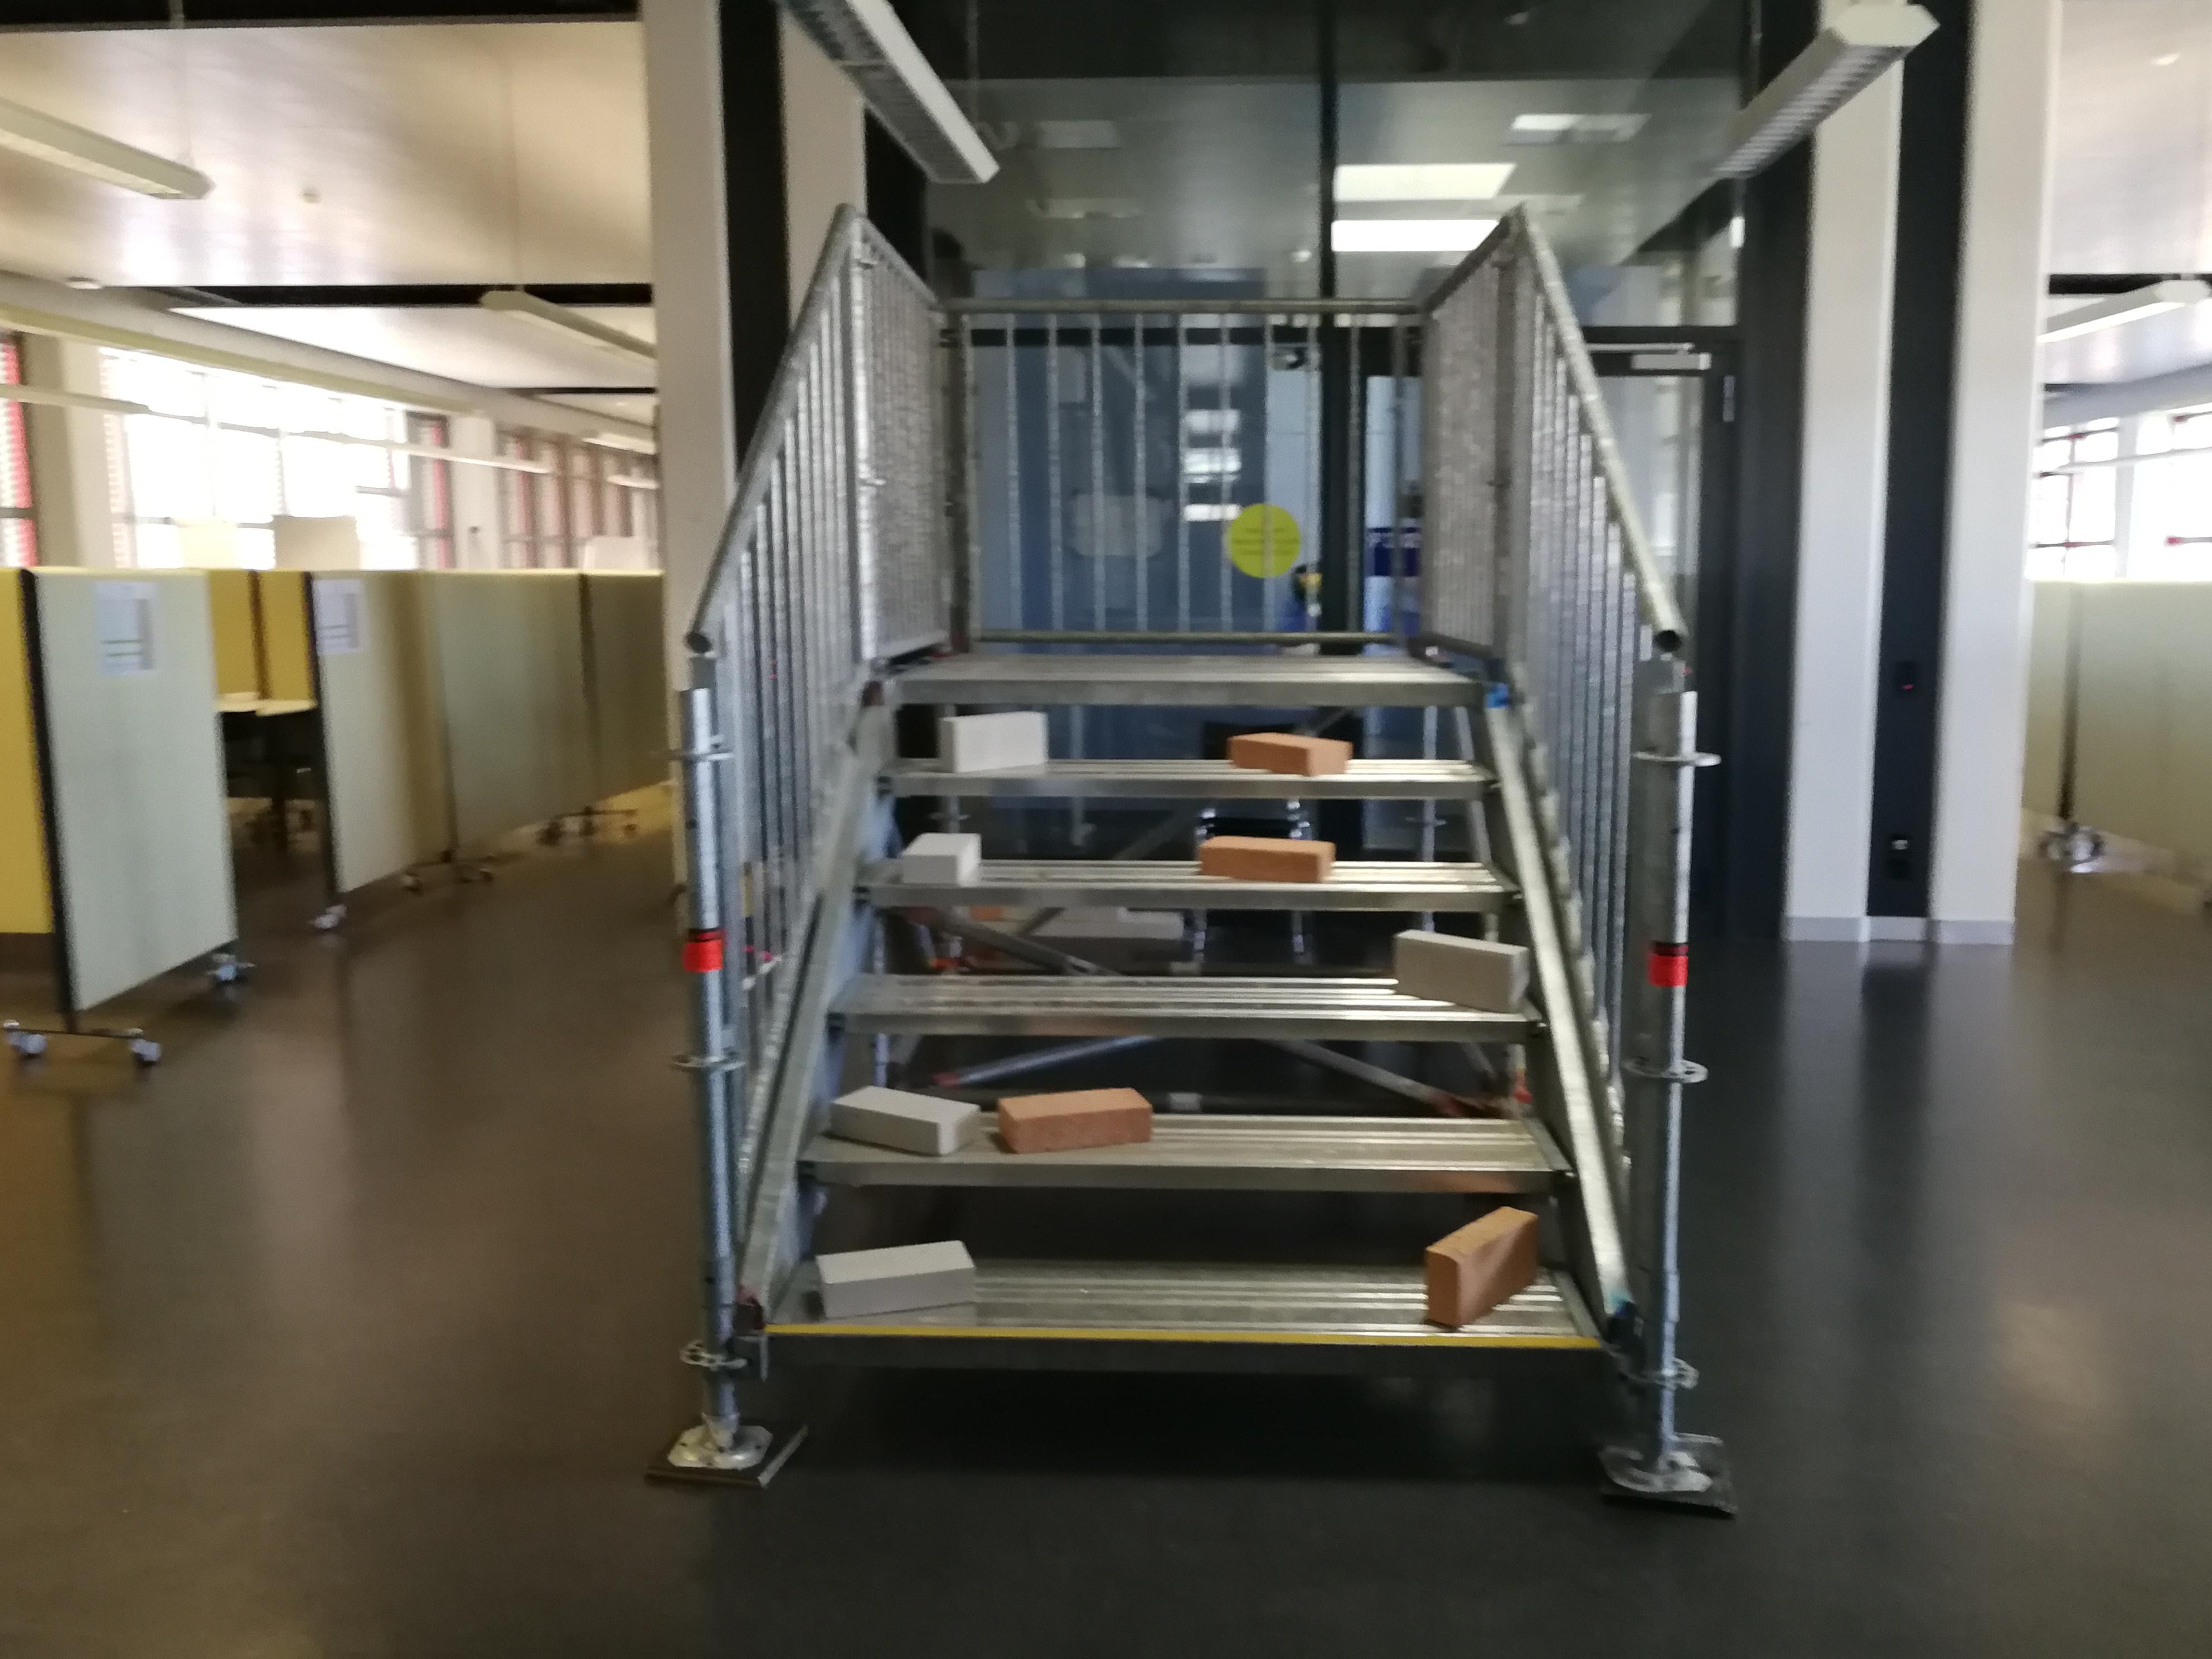brick: (1425, 1206, 1541, 1326), (815, 1243, 970, 1316), (1395, 929, 1526, 1009), (1000, 1086, 1148, 1154), (831, 1086, 977, 1150), (1197, 835, 1329, 882), (942, 711, 1043, 770), (1231, 732, 1348, 777), (904, 835, 981, 882)
edge: (765, 1333, 1602, 1384), (794, 1159, 1573, 1195), (824, 1006, 1543, 1042), (853, 878, 1526, 910), (874, 770, 1498, 802), (899, 676, 1475, 704)
stairs: (637, 206, 1743, 1523)
steps: (747, 664, 1616, 1403)
